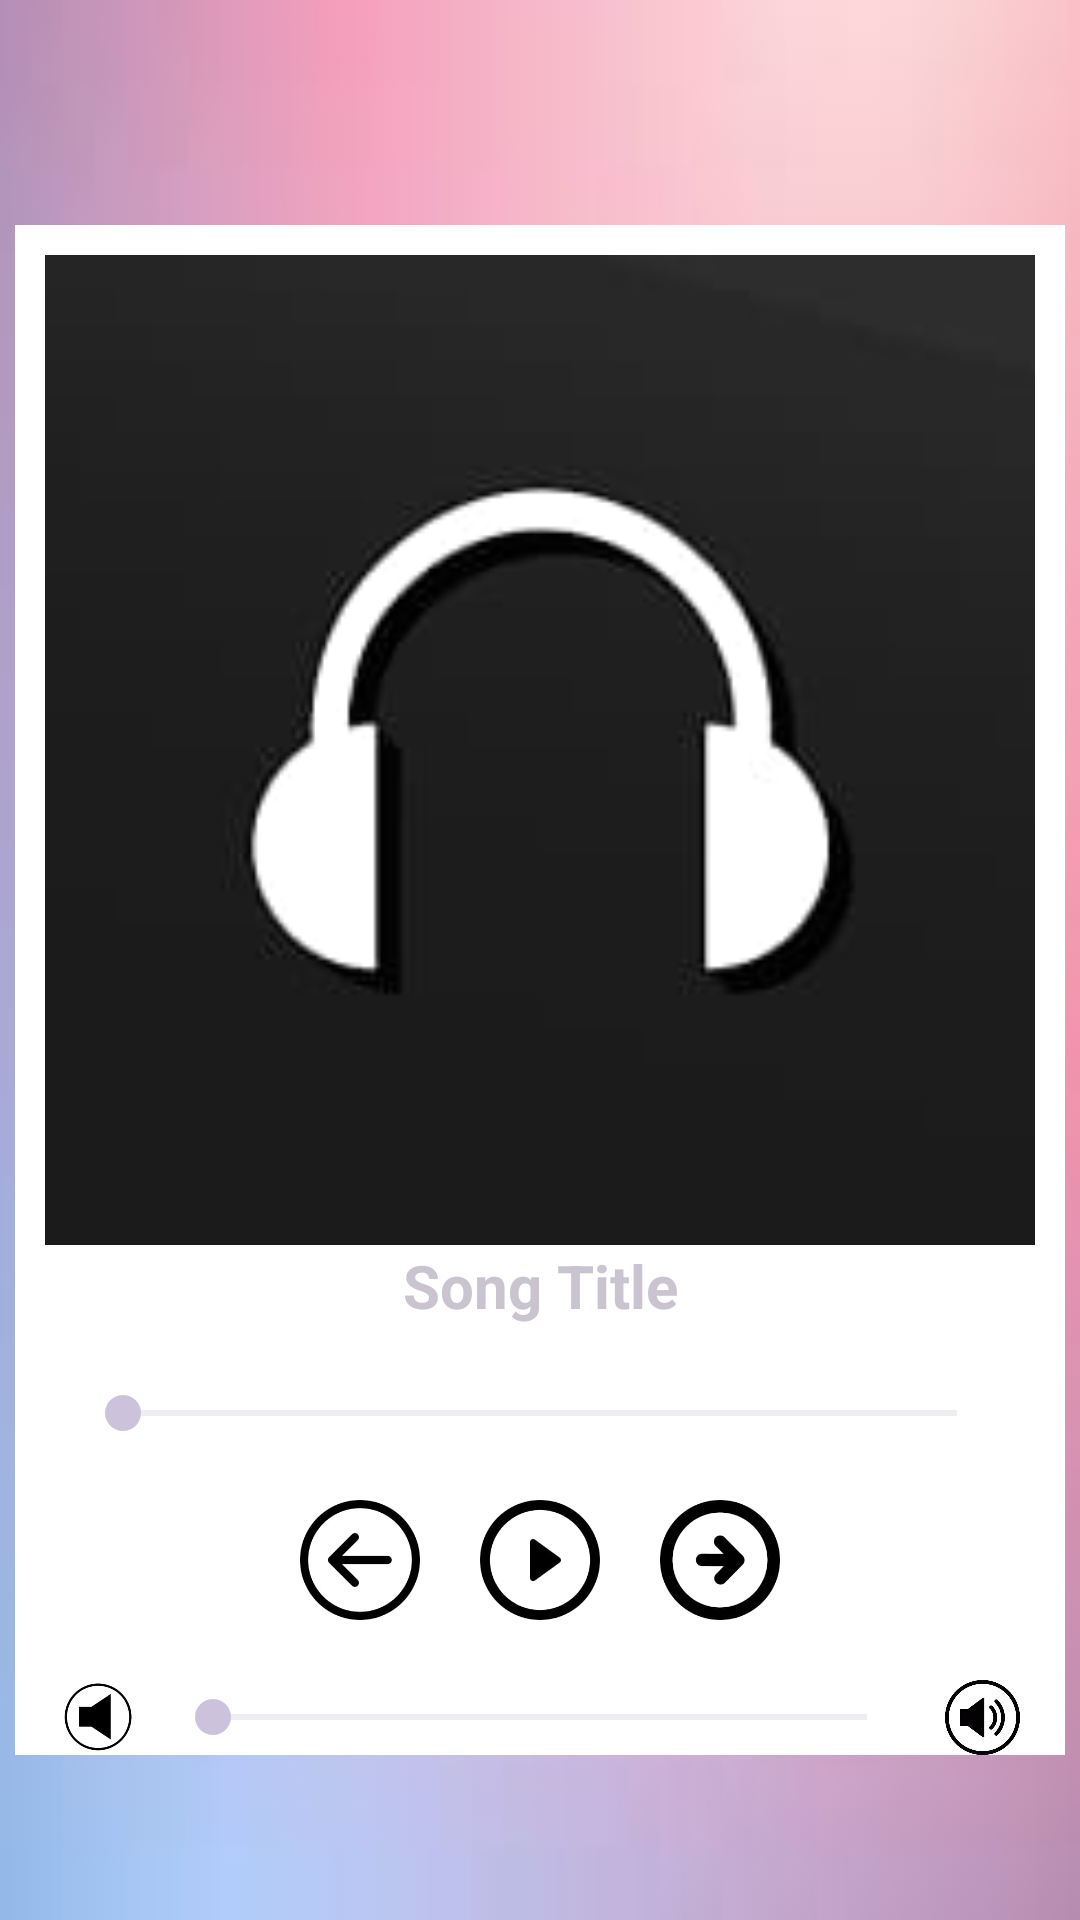

Screen size 1080 x 1920. Icon name, then its box in pixels as (x1, y1, x2, y2):
next: (660, 1500, 780, 1620)
play: (480, 1500, 600, 1620)
previous: (300, 1500, 420, 1620)
soundmax: (945, 1680, 1020, 1755)
soundmin: (64, 1683, 132, 1751)
